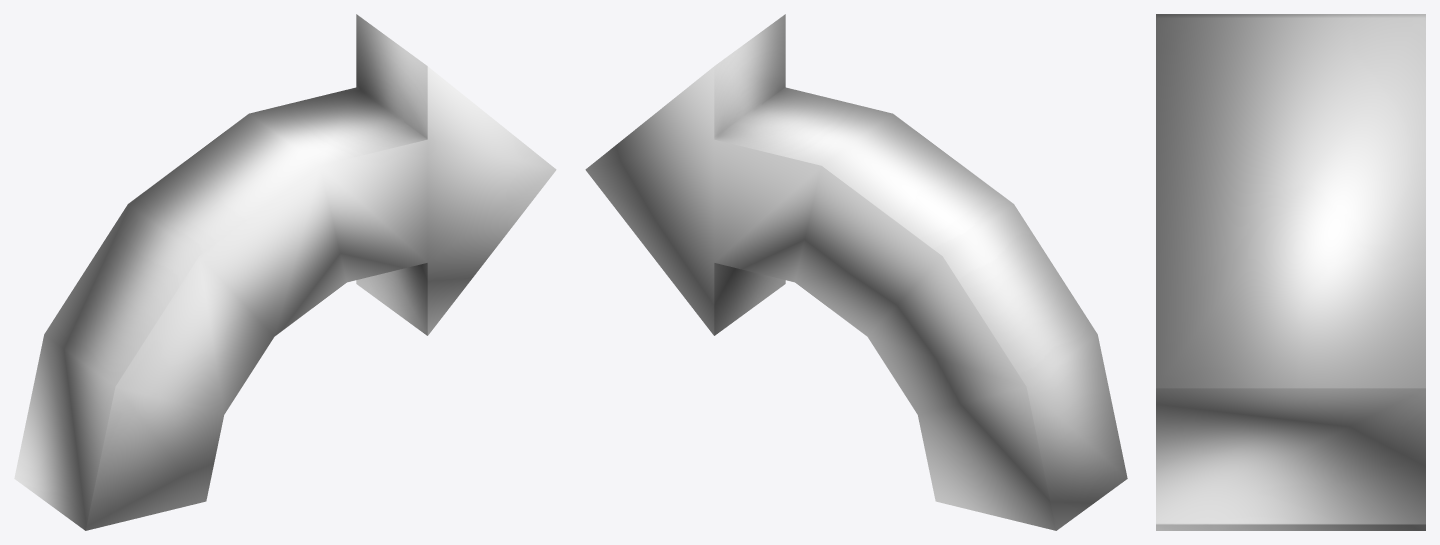
Rendered from Arrow21.fbx.
3 renders of one model, left to right at view 1: azimuth 30°, elevation 25°; view 2: azimuth 150°, elevation 25°; view 3: azimuth 270°, elevation 25°, orthographic. The views are drawn at different scales.
Visible parts, largest first — view 1: Arrow21; view 2: Arrow21; view 3: Arrow21.
Boxes of the visible parts, x1,y1,x2,y2 form: Arrow21: (14, 14, 556, 530); Arrow21: (585, 14, 1127, 530); Arrow21: (1156, 14, 1425, 530).
Size of the model in its own units: 9.7 by 7.51 by 2.54.
